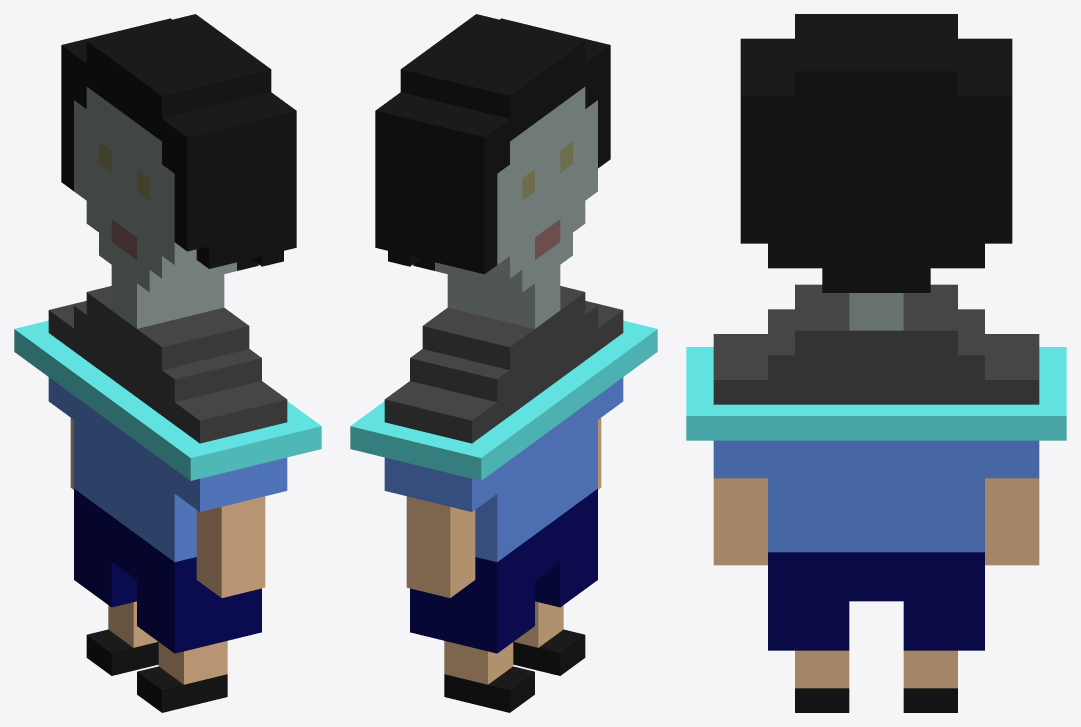
Rendered from grup7_characterChangedGhost_02.fbx.
3 views of the same model, side by side, from view 1: azimuth 30°, elevation 25°; view 2: azimuth 150°, elevation 25°; view 3: azimuth 270°, elevation 25° (orthographic). The views are drawn at different scales.
Visible parts, largest first — view 1: characterChangedGhost_02; view 2: characterChangedGhost_02; view 3: characterChangedGhost_02.
Boxes of the visible parts, x1,y1,x2,y2 form: characterChangedGhost_02: (14,14,321,712); characterChangedGhost_02: (350,14,657,712); characterChangedGhost_02: (686,14,1066,712).
Bounding box in the file's own units: 60 × 270 × 140.
Materials: 1 (1 with a texture image).
